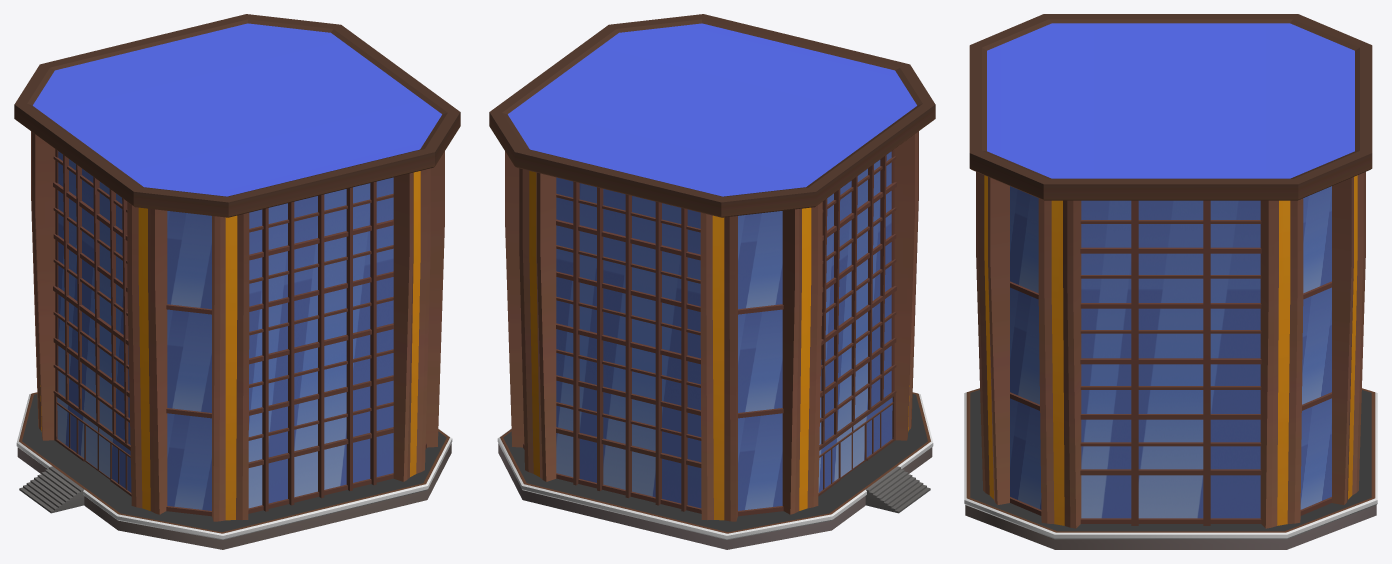
File: Building_7_3_B.fbx
The picture shows the model from 3 angles, left to right: view 1: azimuth 30°, elevation 25°; view 2: azimuth 150°, elevation 25°; view 3: azimuth 270°, elevation 25°; orthographic projection. The views are drawn at different scales.
Visible parts, largest first — view 1: Building_7_3_B; view 2: Building_7_3_B; view 3: Building_7_3_B.
Boxes of the visible parts, x1,y1,x2,y2 form: Building_7_3_B: [14, 14, 460, 549]; Building_7_3_B: [489, 14, 935, 549]; Building_7_3_B: [964, 14, 1377, 549].
Size of the model in its own units: 2520 by 2267 by 2311.
